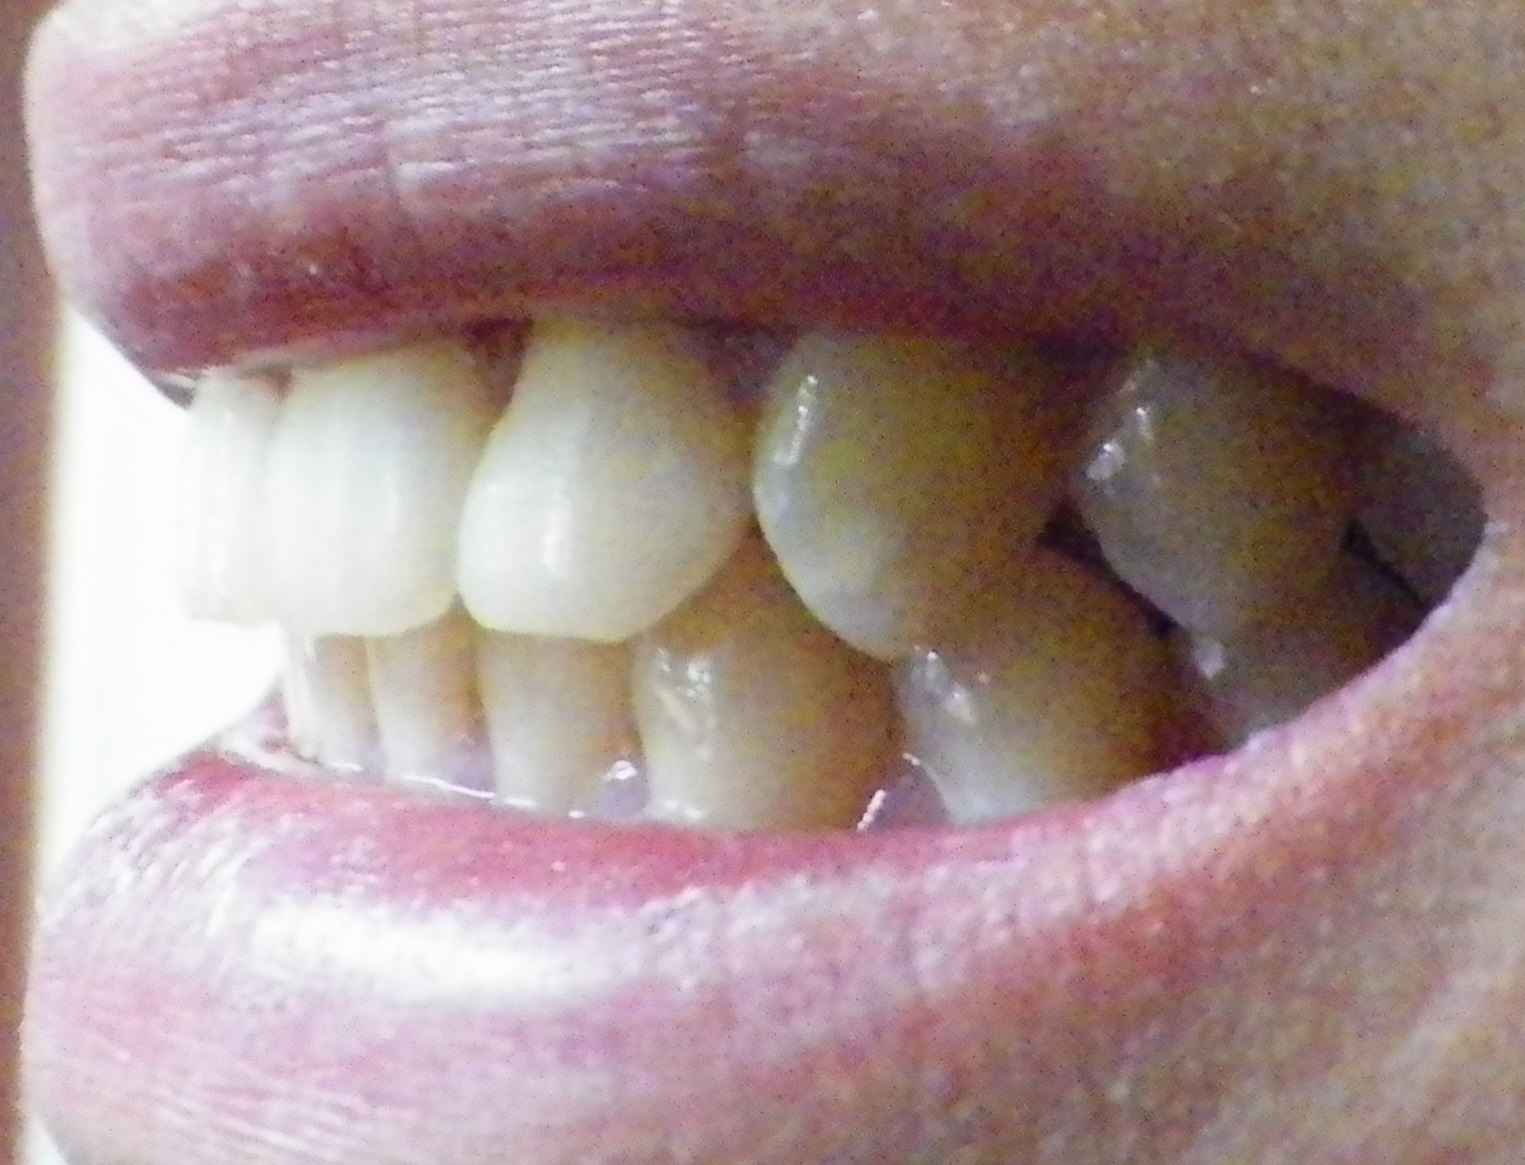boca: (171, 370, 1348, 824)
